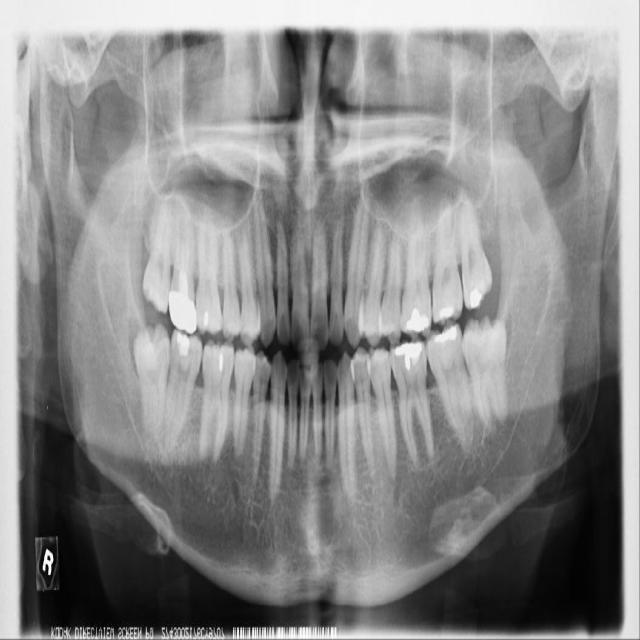Filling: (169, 271, 197, 333), (395, 342, 422, 370), (407, 308, 429, 332), (435, 326, 457, 343), (215, 345, 226, 373), (177, 332, 189, 356), (470, 288, 482, 308), (440, 307, 453, 318), (201, 312, 209, 329)
impacted tooth: (462, 318, 509, 425), (133, 325, 172, 444)
